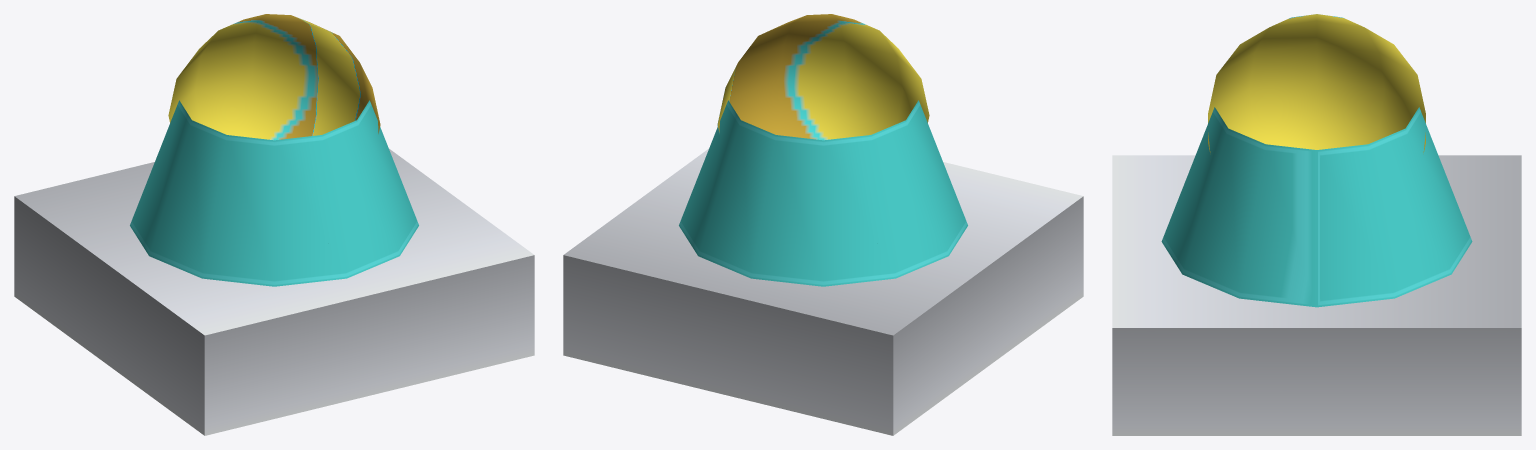
Rendered from rest_fountain.glb.
3 renders of one model, left to right at view 1: azimuth 30°, elevation 25°; view 2: azimuth 150°, elevation 25°; view 3: azimuth 270°, elevation 25°, orthographic. The views are drawn at different scales.
Parts seen in each view (by area): view 1: rest_fountain; view 2: rest_fountain; view 3: rest_fountain.
Part boxes in pixels (left/top/right/bottom): rest_fountain: left=14, top=14, right=534, bottom=435; rest_fountain: left=563, top=14, right=1083, bottom=435; rest_fountain: left=1112, top=14, right=1521, bottom=435.
Size of the model in its own units: 2.2 by 1.93 by 2.2.
1 material, 1 textured.
